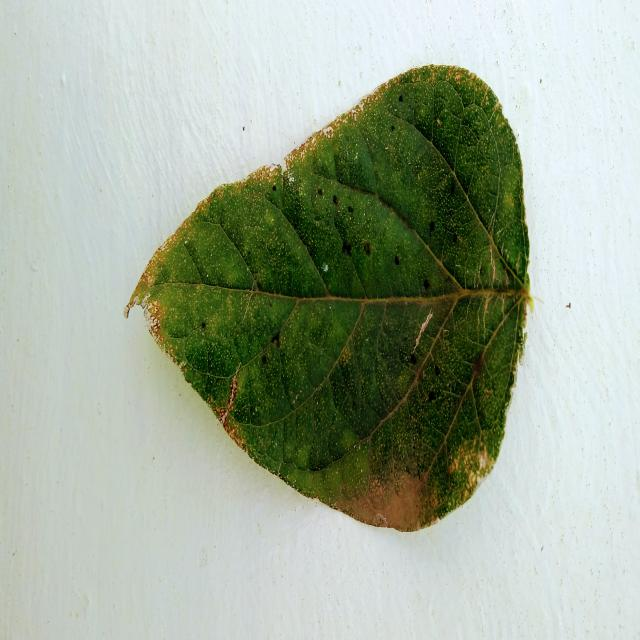seedling blight: (125, 67, 530, 531)
